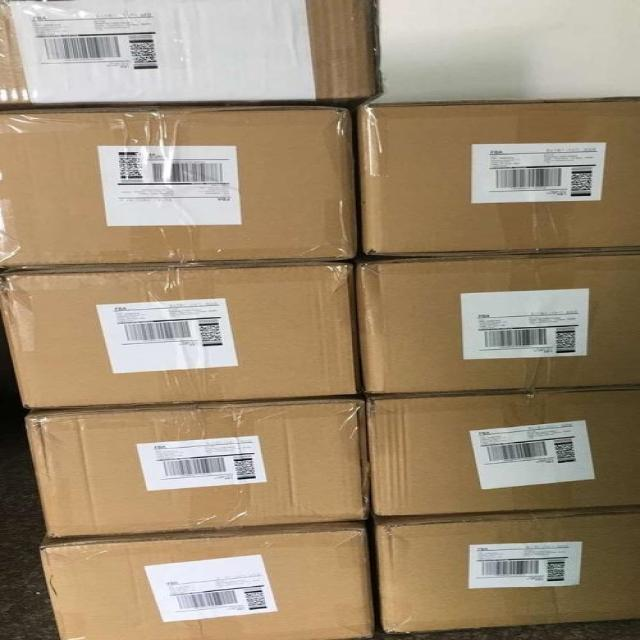box: (1, 106, 356, 269), (0, 262, 363, 409), (26, 400, 371, 537), (357, 97, 638, 256), (0, 0, 383, 109), (356, 251, 639, 393), (39, 521, 375, 639), (364, 385, 638, 516), (372, 505, 639, 633)
